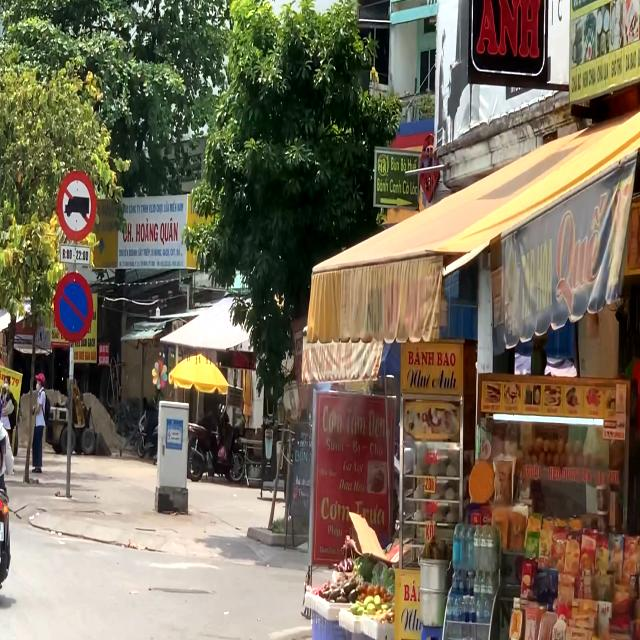P.106a: (58, 170, 96, 240)
P.131a: (53, 272, 95, 342)
